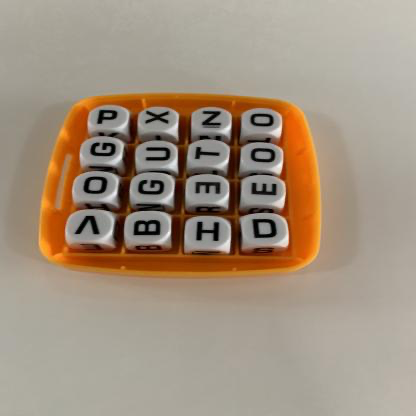b: (125, 212, 173, 244)
d: (242, 213, 289, 247)
e: (243, 176, 287, 206), (187, 175, 230, 205)
g: (132, 173, 176, 202), (81, 137, 125, 165)
h: (185, 217, 232, 250)
o: (74, 172, 120, 202), (241, 143, 284, 170), (242, 109, 283, 134)
p: (90, 106, 129, 130)
t: (189, 140, 231, 167)
u: (136, 141, 180, 170)
v: (66, 210, 115, 245)
x: (140, 108, 179, 132)
z: (193, 108, 233, 133)
